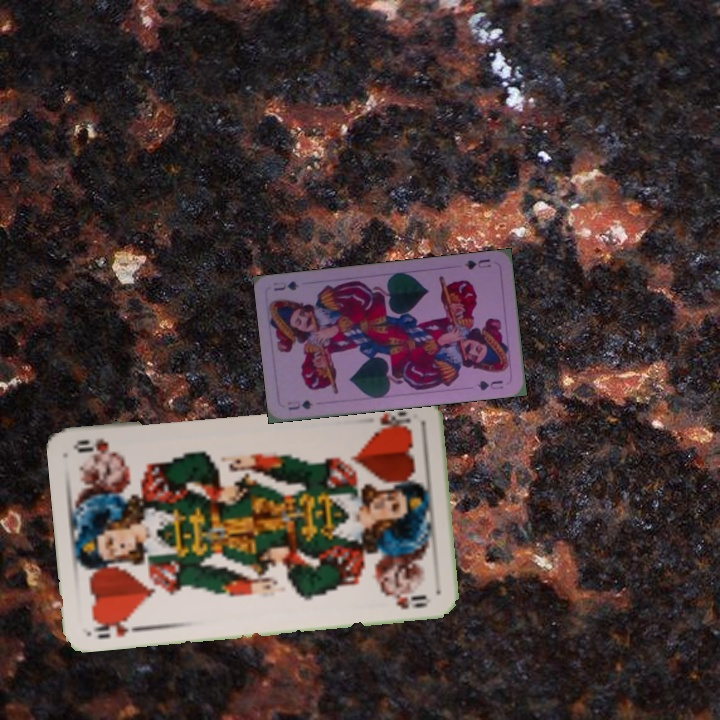GU: (460, 255, 493, 272), (283, 396, 316, 413)
HO: (89, 613, 147, 641), (374, 407, 413, 431)
